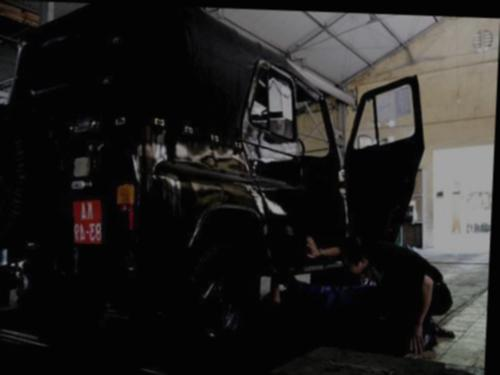License_Plate: (68, 196, 109, 249)
